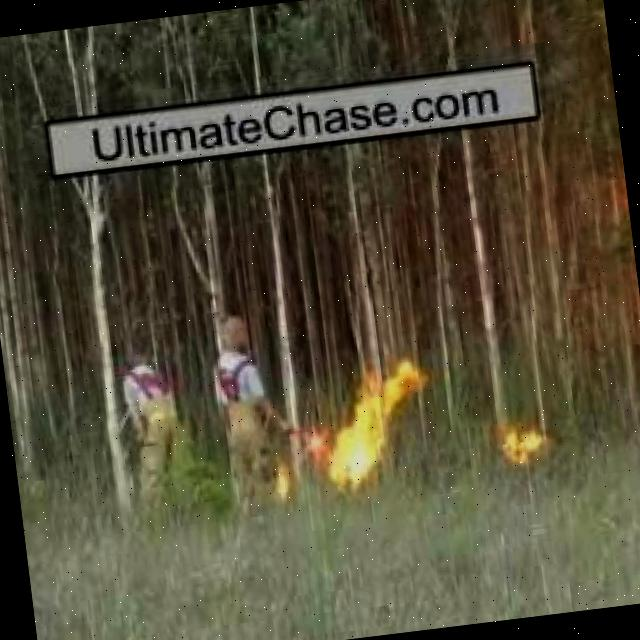fire: (312, 360, 438, 497), (489, 416, 559, 477)
